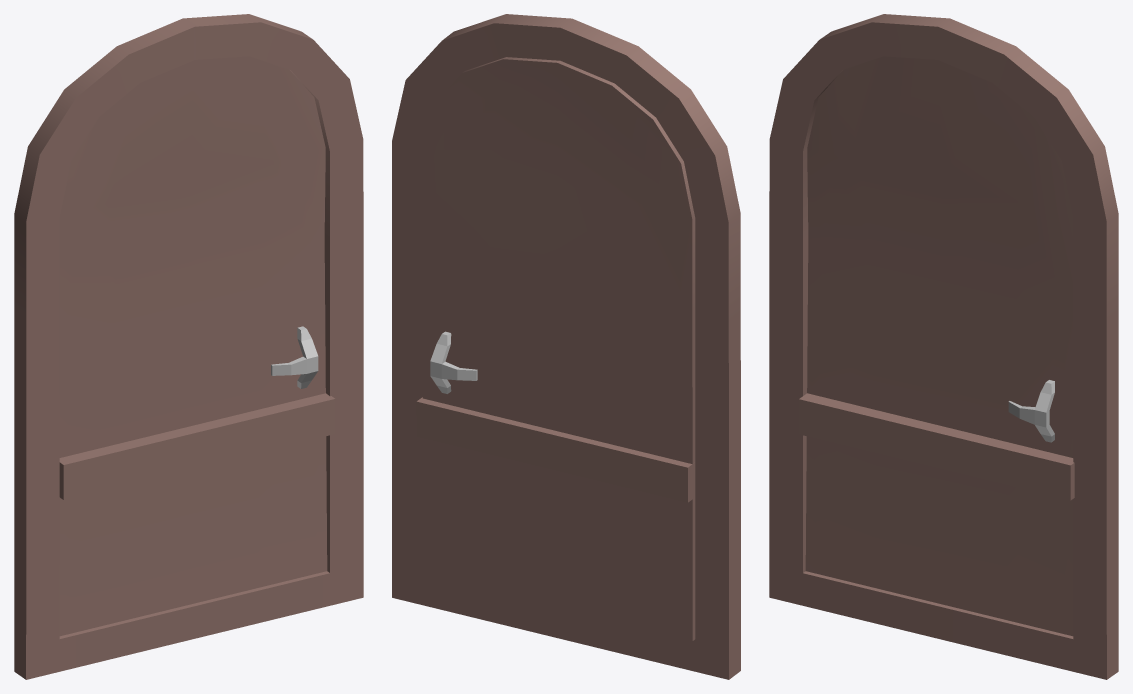
The model's file is Atelier_house_arc_interior_door_ver2.fbx.
3 renders of one model, left to right at view 1: azimuth 30°, elevation 25°; view 2: azimuth 150°, elevation 25°; view 3: azimuth 330°, elevation 25°, orthographic.
Parts seen in each view (by area): view 1: Atelier_house_arc_interior_door_ver2; view 2: Atelier_house_arc_interior_door_ver2; view 3: Atelier_house_arc_interior_door_ver2.
Part boxes in pixels (x1,y1,x2,y2): Atelier_house_arc_interior_door_ver2: [14, 14, 363, 679]; Atelier_house_arc_interior_door_ver2: [392, 14, 740, 679]; Atelier_house_arc_interior_door_ver2: [769, 14, 1118, 679].
Size of the model in its own units: 148 by 257 by 26.13.
Materials: 2 (1 with a texture image).
